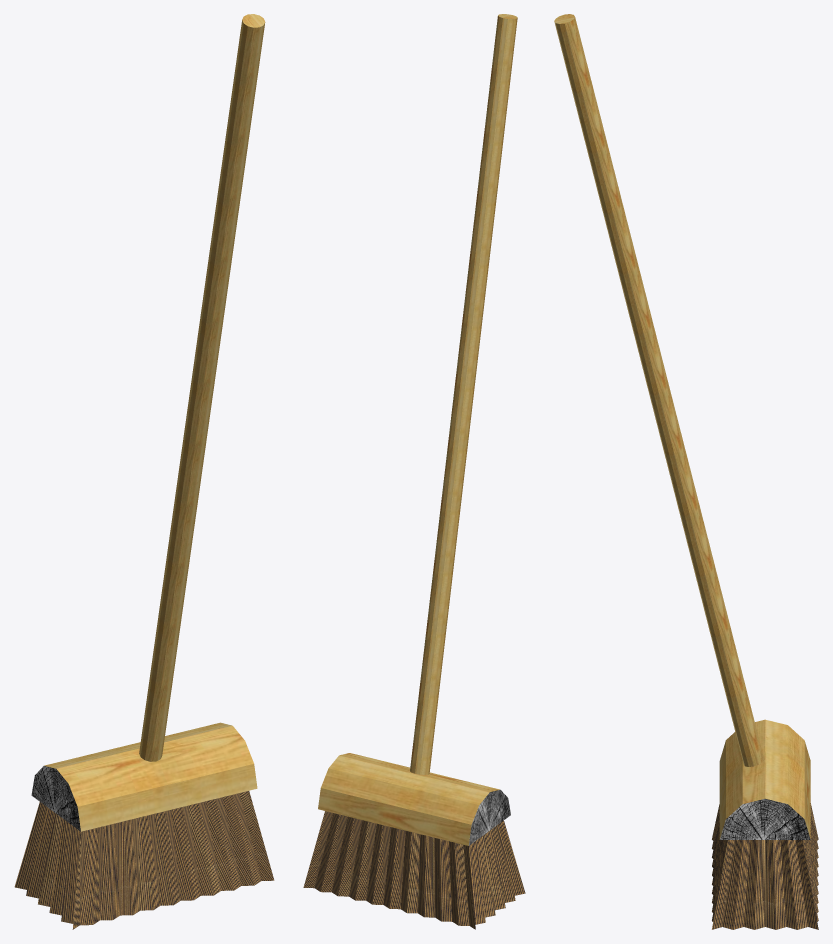
The model's file is BassBroom.fbx.
3 renders of one model, left to right at view 1: azimuth 30°, elevation 25°; view 2: azimuth 150°, elevation 25°; view 3: azimuth 270°, elevation 25°, orthographic. The views are drawn at different scales.
Parts seen in each view (by area): view 1: default; view 2: default; view 3: default.
Boxes of the visible parts, <box> form: default: <box>14,14,274,929</box>; default: <box>303,14,525,929</box>; default: <box>554,14,818,929</box>.
Size of the model in its own units: 10 by 44.78 by 12.36.
